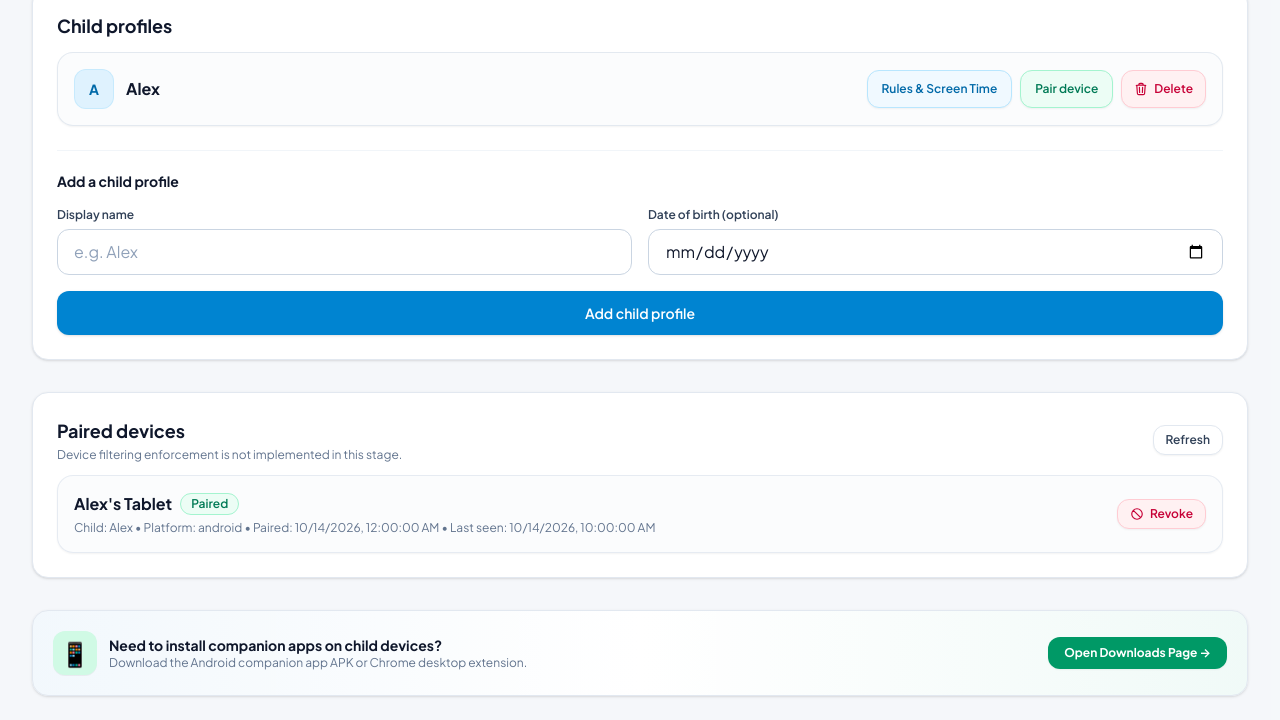
Test: KidsGuard web foundation › lists paired devices and allows revoking an active device
The width and height of the screenshot is (1280, 720).
(page scrolled)
Expected: the text "Alex's Tablet" is shown, [74,492,172,516]
Expected: the text "Paired" is shown, [180,492,239,514]
Click the button with aria-label "Revoke Alex's Tablet" at (1161, 514), box [1117,498,1206,528]
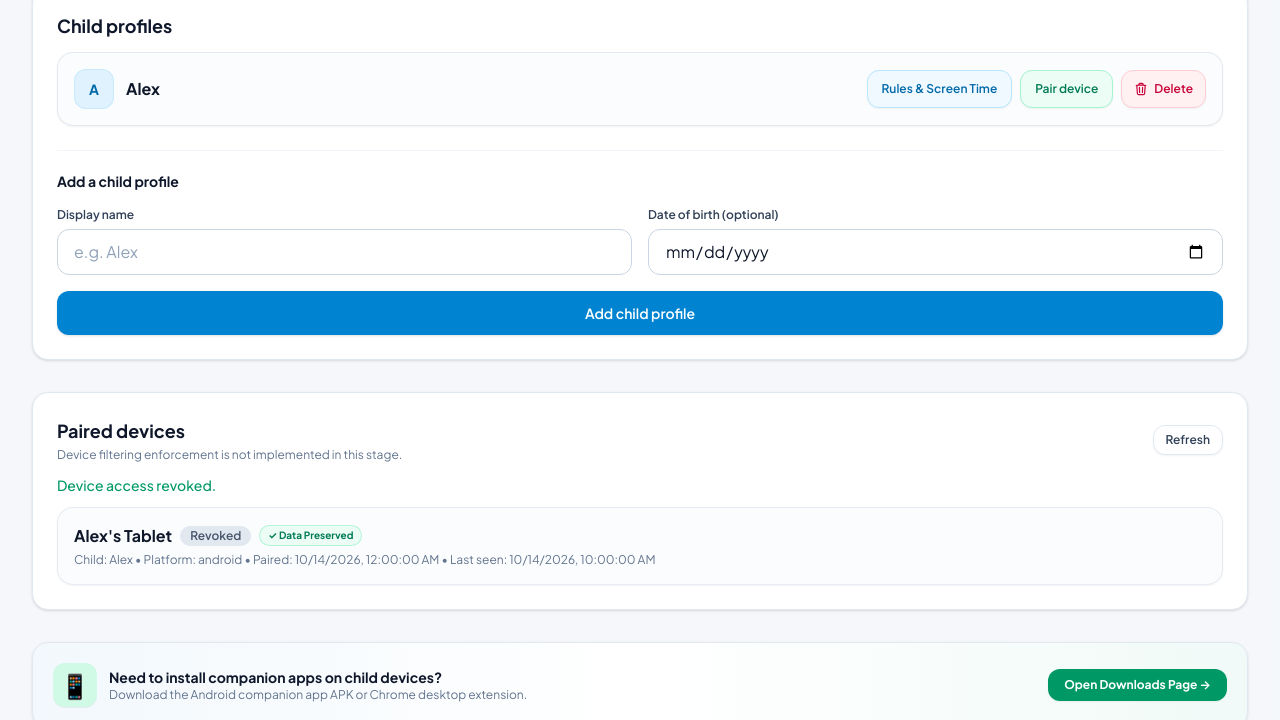
Expected: the text "Device access revoked." is shown, [57,476,216,494]
Expected: the text "Revoked" is shown, [180,526,251,546]
